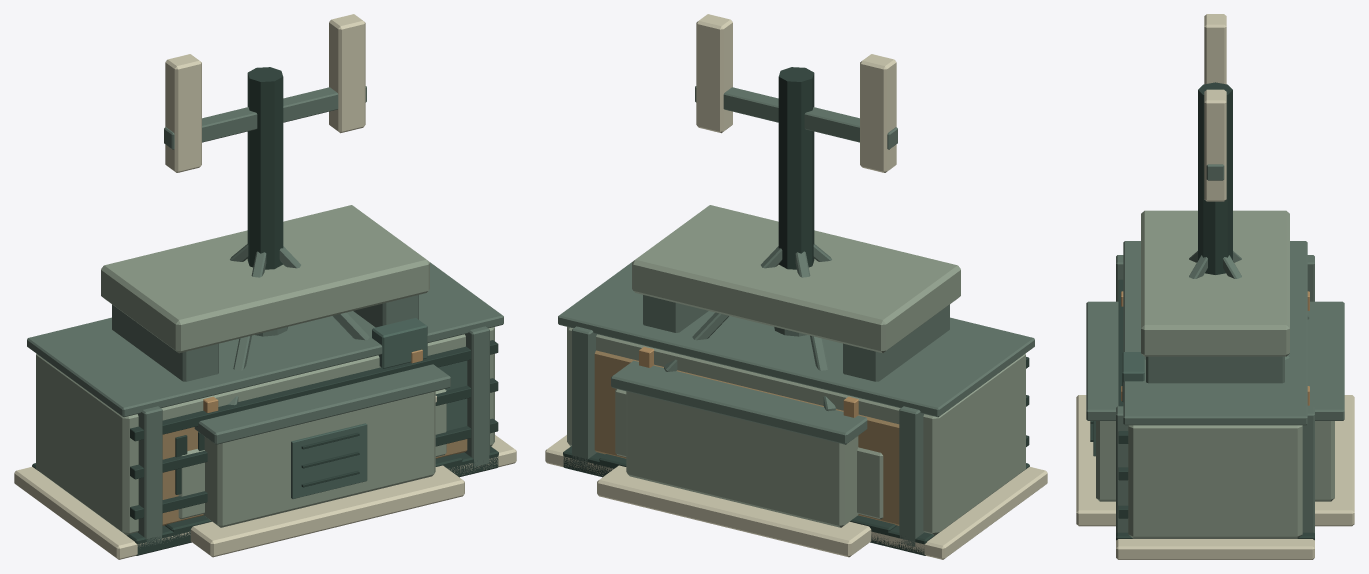
File: map-ecosystem.glb
3 renders of one model, left to right at view 1: azimuth 30°, elevation 25°; view 2: azimuth 150°, elevation 25°; view 3: azimuth 270°, elevation 25°, orthographic. The views are drawn at different scales.
Visible parts, largest first — view 1: foundry_press_map_paint, relay_generator_map_steel, relay_mast_map_cream, relay_generator_map_paint, relay_mast_map_paint, relay_mast_map_steel, foundry_rack_map_iron, relay_mast_map_iron, foundry_rack_map_steel, foundry_press_map_steel, relay_generator_map_cream, relay_mast_map_panel (+4 smaller); view 2: foundry_press_map_paint, relay_generator_map_steel, relay_mast_map_paint, relay_generator_map_paint, relay_mast_map_cream, relay_mast_map_steel, relay_mast_map_iron, foundry_rack_map_steel, foundry_rack_map_timber, relay_generator_map_cream, foundry_press_map_steel, foundry_rack_map_iron (+1 smaller); view 3: relay_generator_map_paint, foundry_press_map_paint, relay_generator_map_steel, relay_mast_map_cream, relay_mast_map_steel, relay_generator_map_cream, relay_mast_map_iron, foundry_press_map_steel, foundry_rack_map_steel, relay_mast_map_paint, foundry_rack_map_iron, foundry_press_map_panel.
Boxes of the visible parts, <box> form: foundry_press_map_paint: <box>101,205,446,519</box>; relay_generator_map_steel: <box>27,262,503,417</box>; relay_mast_map_cream: <box>165,14,464,557</box>; relay_generator_map_paint: <box>36,327,494,535</box>; relay_mast_map_paint: <box>203,391,435,527</box>; relay_mast_map_steel: <box>164,86,450,444</box>; foundry_rack_map_iron: <box>32,340,498,555</box>; relay_mast_map_iron: <box>247,67,359,487</box>; foundry_rack_map_steel: <box>137,326,489,545</box>; foundry_press_map_steel: <box>112,295,418,381</box>; relay_generator_map_cream: <box>14,396,516,559</box>; relay_mast_map_panel: <box>291,423,367,498</box>; foundry_press_map_paint: <box>615,205,960,519</box>; relay_generator_map_steel: <box>558,262,1034,417</box>; relay_mast_map_paint: <box>626,391,858,527</box>; relay_generator_map_paint: <box>567,327,1025,535</box>; relay_mast_map_cream: <box>597,14,896,557</box>; relay_mast_map_steel: <box>611,86,897,444</box>; relay_mast_map_iron: <box>778,67,814,269</box>; foundry_rack_map_steel: <box>572,326,924,546</box>; foundry_rack_map_timber: <box>594,350,899,525</box>; relay_generator_map_cream: <box>545,435,1047,559</box>; foundry_press_map_steel: <box>643,295,949,381</box>; foundry_rack_map_iron: <box>563,357,1029,555</box>; relay_generator_map_paint: <box>1128,425,1302,538</box>; foundry_press_map_paint: <box>1141,210,1289,356</box>; relay_generator_map_steel: <box>1123,241,1307,425</box>; relay_mast_map_cream: <box>1076,14,1354,526</box>; relay_mast_map_steel: <box>1086,164,1344,420</box>; relay_generator_map_cream: <box>1116,539,1314,559</box>; relay_mast_map_iron: <box>1090,82,1232,441</box>; foundry_press_map_steel: <box>1146,356,1284,383</box>; foundry_rack_map_steel: <box>1116,255,1314,532</box>; relay_mast_map_paint: <box>1096,421,1334,501</box>; foundry_rack_map_iron: <box>1116,279,1314,540</box>; foundry_press_map_panel: <box>1122,352,1144,402</box>.
Size of the model in its own units: 176 by 182 by 112.
